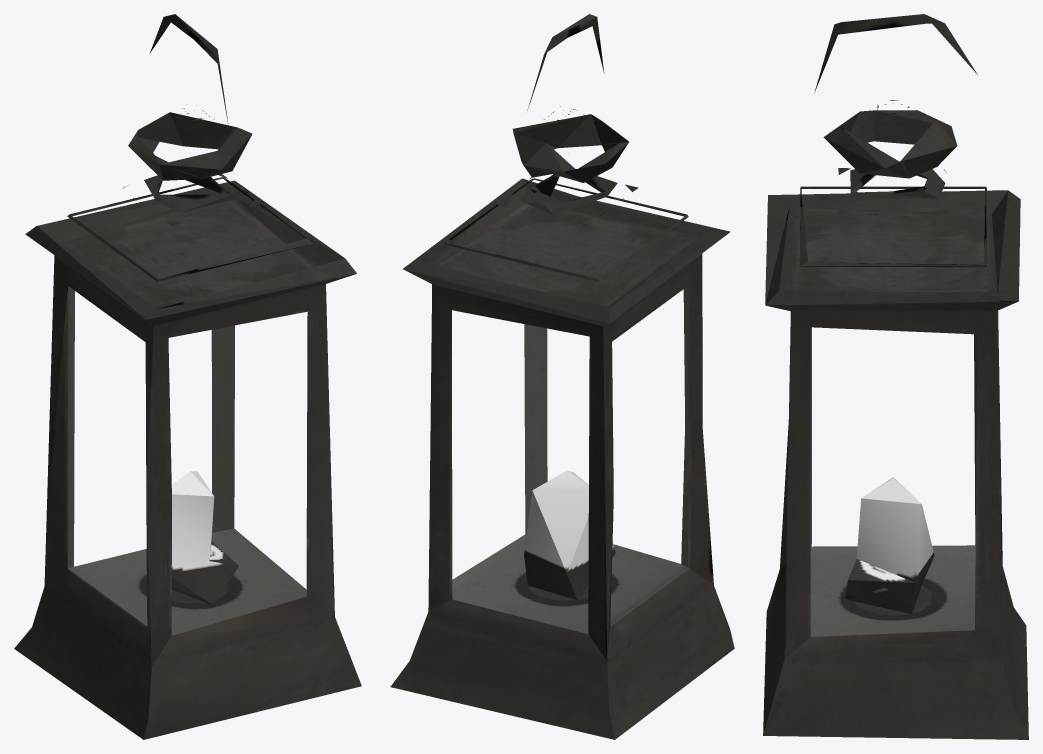
File: lantern_lod0.glb
The picture shows the model from 3 angles, left to right: view 1: azimuth 30°, elevation 25°; view 2: azimuth 150°, elevation 25°; view 3: azimuth 270°, elevation 25°; orthographic projection. The views are drawn at different scales.
Visible parts, largest first — view 1: low; view 2: low; view 3: low.
Part boxes in pixels (x1,y1,x2,y2): low: [14, 14, 361, 739]; low: [390, 14, 734, 739]; low: [763, 14, 1028, 739].
Size of the model in its own units: 0.3519 by 0.9641 by 0.3472.
Materials: 1 (1 with a texture image).
